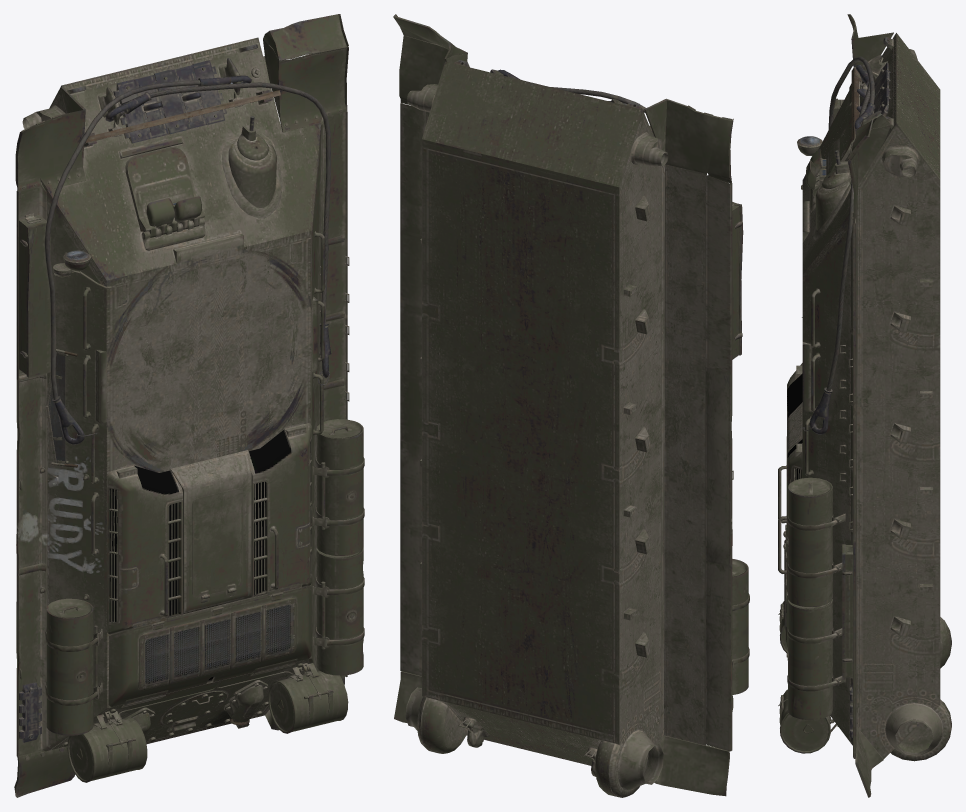
File: Hull.glb
3 renders of one model, left to right at view 1: azimuth 30°, elevation 25°; view 2: azimuth 150°, elevation 25°; view 3: azimuth 270°, elevation 25°, orthographic. The views are drawn at different scales.
Visible parts, largest first — view 1: set_0_group_0; view 2: set_0_group_0; view 3: set_0_group_0.
Boxes of the visible parts, x1,y1,x2,y2 form: set_0_group_0: [14, 14, 364, 797]; set_0_group_0: [393, 14, 749, 797]; set_0_group_0: [778, 14, 951, 797].
Bounding box in the file's own units: 3.01 × 6.1 × 1.45.
1 material, 1 textured.
